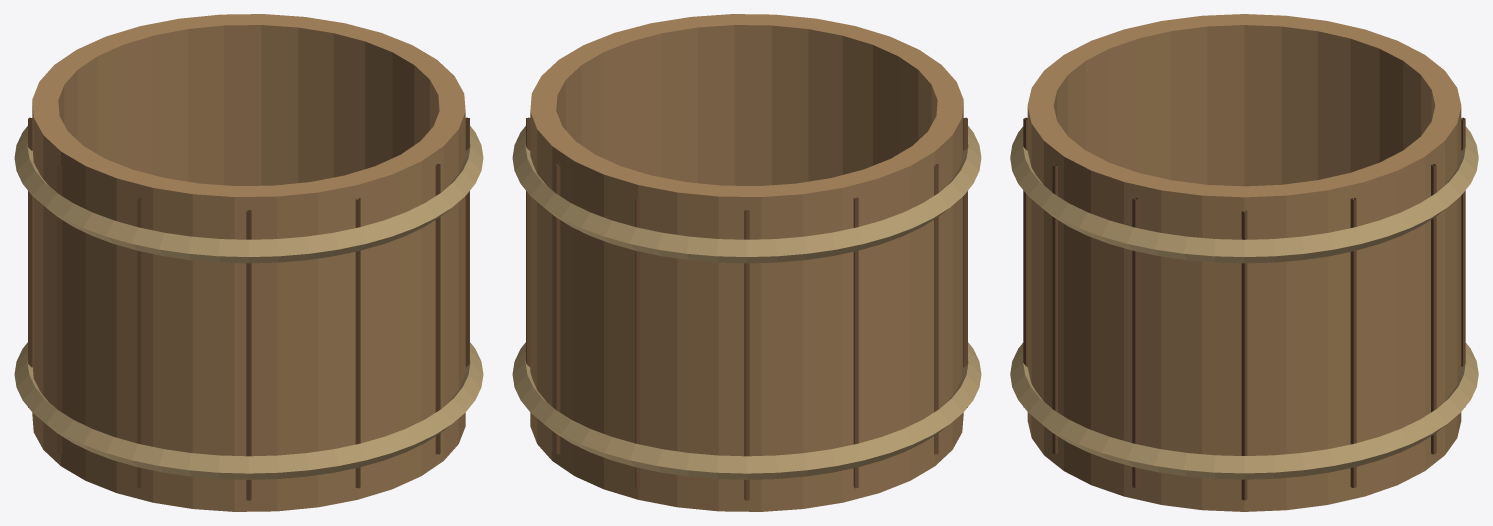
3 renders of one model, left to right at view 1: azimuth 30°, elevation 25°; view 2: azimuth 150°, elevation 25°; view 3: azimuth 270°, elevation 25°, orthographic.
Visible parts, largest first — view 1: BA-0034 batched; view 2: BA-0034 batched; view 3: BA-0034 batched.
Boxes of the visible parts, x1,y1,x2,y2 form: BA-0034 batched: (14,14,483,511); BA-0034 batched: (512,14,981,511); BA-0034 batched: (1010,14,1478,511).
Size of the model in its own units: 0.324 by 0.24 by 0.324.
